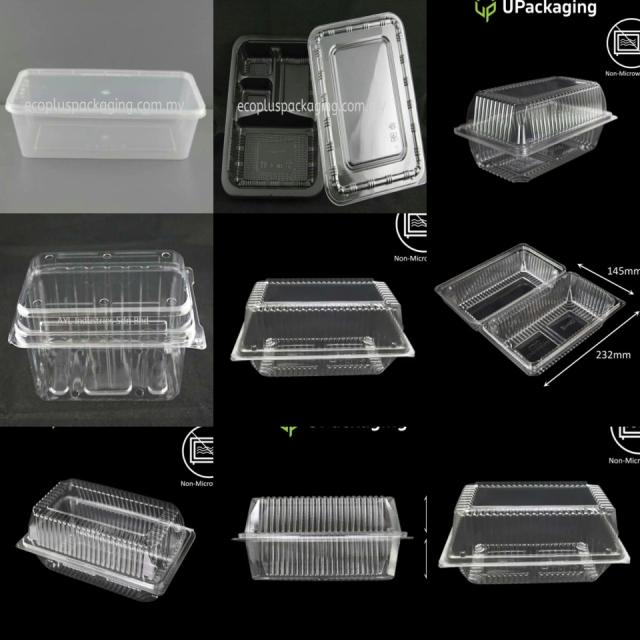Single-Use-Plastic: (9, 250, 206, 401), (435, 244, 625, 374), (308, 12, 425, 206), (16, 479, 195, 601), (439, 481, 630, 584), (5, 69, 206, 159), (231, 279, 415, 376), (455, 76, 616, 182), (222, 36, 321, 196), (239, 496, 406, 579)
